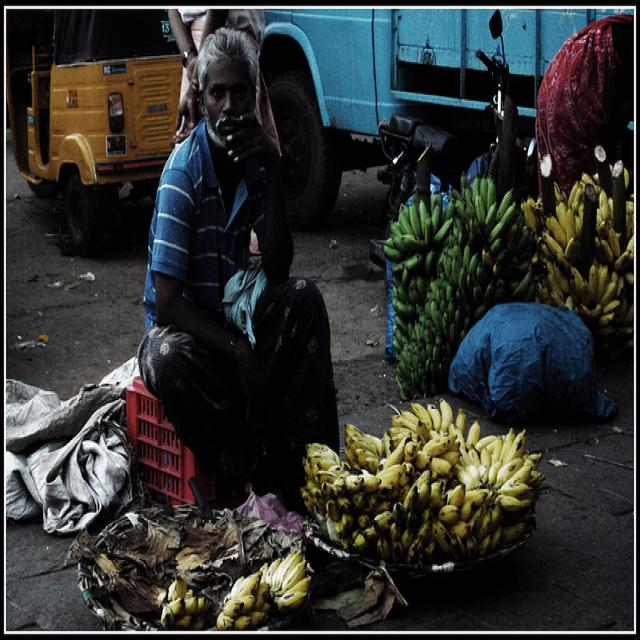motor: (377, 12, 538, 232)
